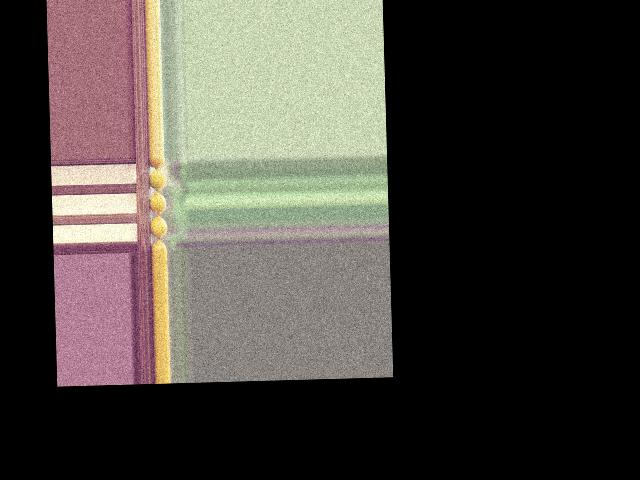lemon: (151, 240, 167, 252)
